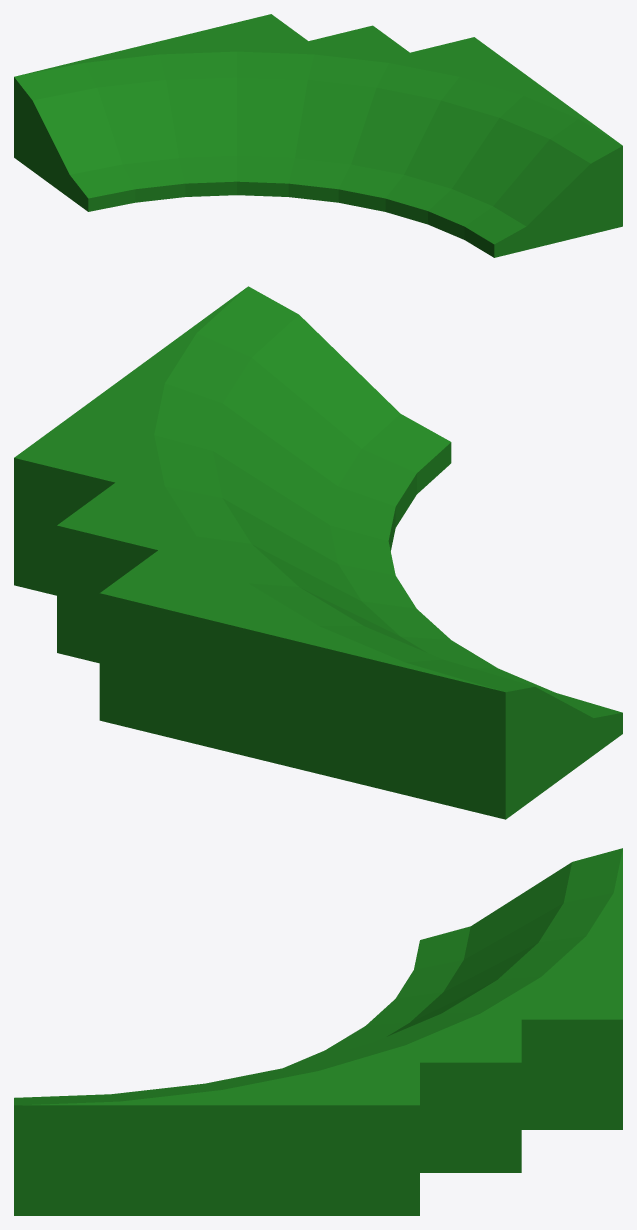
The model's file is grass_hill_corner_inner_x3.obj.
3 renders of one model, top to bottom at view 1: azimuth 30°, elevation 25°; view 2: azimuth 150°, elevation 25°; view 3: azimuth 270°, elevation 25°, orthographic. The views are drawn at different scales.
Parts seen in each view (by area): view 1: grass_hill_corner_inner_x3_Circle.015; view 2: grass_hill_corner_inner_x3_Circle.015; view 3: grass_hill_corner_inner_x3_Circle.015.
Boxes of the visible parts, box(x1,y1,x2,y2) form: grass_hill_corner_inner_x3_Circle.015: box(14, 14, 622, 257); grass_hill_corner_inner_x3_Circle.015: box(14, 286, 622, 819); grass_hill_corner_inner_x3_Circle.015: box(14, 848, 622, 1215).
Bounding box in the file's own units: 6 × 1.2 × 6.
